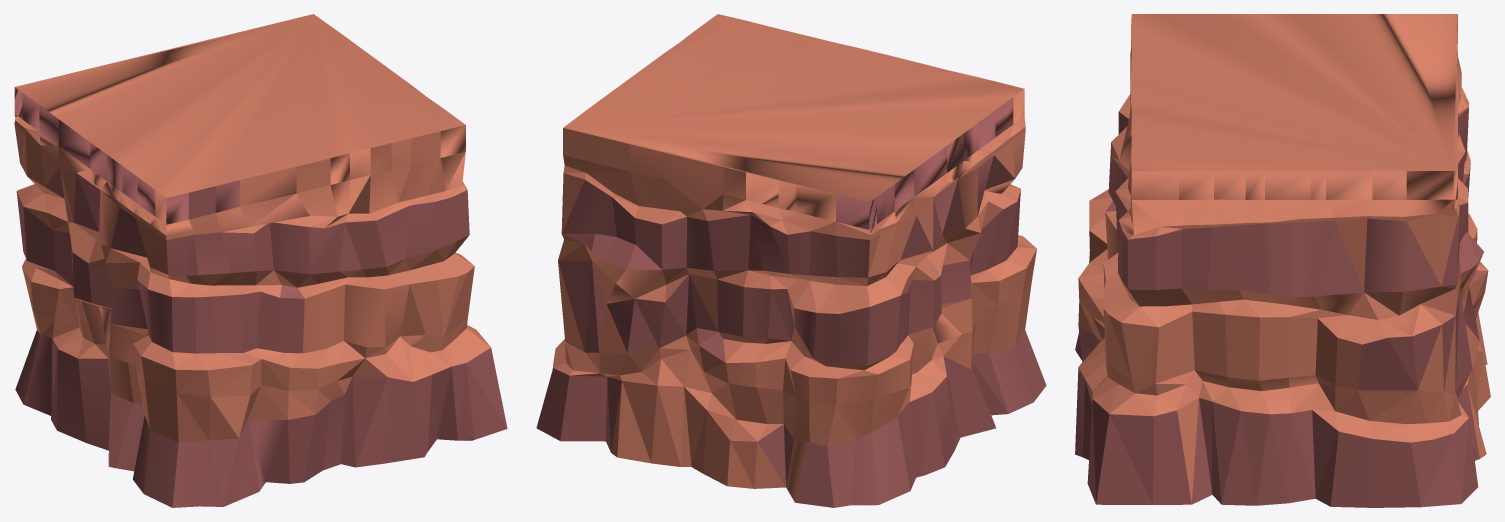
The model's file is pillar_canyonj.fbx.
The picture shows the model from 3 angles, left to right: view 1: azimuth 30°, elevation 25°; view 2: azimuth 150°, elevation 25°; view 3: azimuth 270°, elevation 25°; orthographic projection. The views are drawn at different scales.
Visible parts, largest first — view 1: Cube.001; view 2: Cube.001; view 3: Cube.001.
Boxes of the visible parts, x1,y1,x2,y2 form: Cube.001: (14, 14, 507, 507); Cube.001: (536, 14, 1046, 507); Cube.001: (1075, 14, 1490, 507).
Bounding box in the file's own units: 1212 × 999 × 1172.
